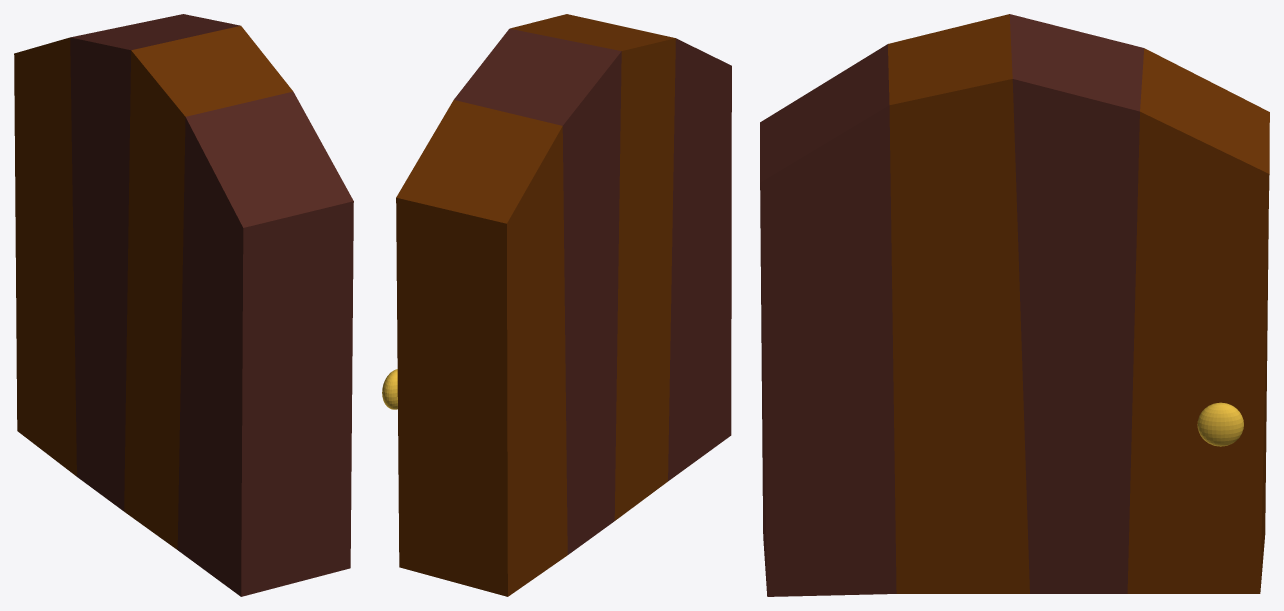
Rendered from littledoor.fbx.
3 renders of one model, left to right at view 1: azimuth 30°, elevation 25°; view 2: azimuth 150°, elevation 25°; view 3: azimuth 270°, elevation 25°, orthographic. The views are drawn at different scales.
Parts seen in each view (by area): view 1: Cube; view 2: Cube, Sphere; view 3: Cube, Sphere.
Part boxes in pixels (x1,y1,x2,y2): Cube: (14,14,353,596); Cube: (396,14,731,596); Sphere: (382,369,397,409); Cube: (760,14,1269,596); Sphere: (1197,402,1243,446).
Bounding box in the file's own units: 42.24 × 132 × 116.
